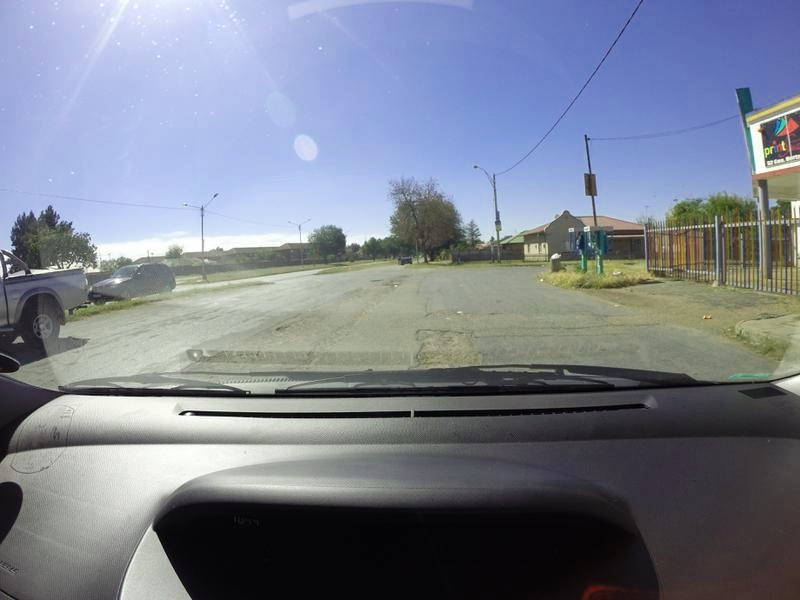pothole: (413, 329, 479, 363), (272, 323, 297, 333), (487, 308, 504, 317), (368, 278, 387, 282)
